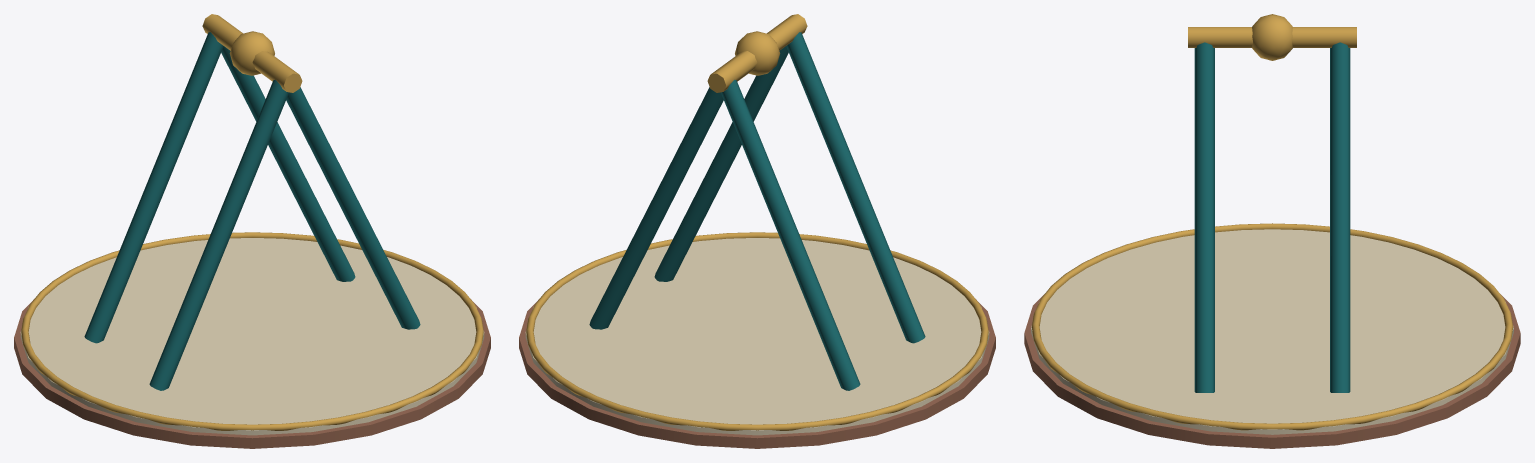
The model's file is ride_ferris.glb.
The picture shows the model from 3 angles, left to right: view 1: azimuth 30°, elevation 25°; view 2: azimuth 150°, elevation 25°; view 3: azimuth 270°, elevation 25°; orthographic projection. The views are drawn at different scales.
Visible parts, largest first — view 1: ride_ferris; view 2: ride_ferris; view 3: ride_ferris.
Boxes of the visible parts, left/top/right/bottom form: ride_ferris: left=14, top=14, right=490, bottom=448; ride_ferris: left=519, top=14, right=995, bottom=448; ride_ferris: left=1024, top=14, right=1520, bottom=448.
Size of the model in its own units: 8.8 by 6.42 by 8.8.
